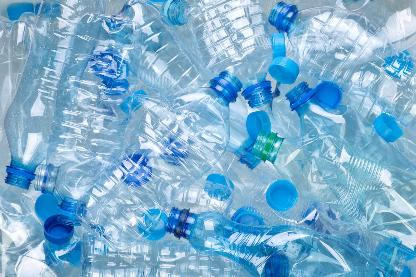Plastic Bottle: (0, 0, 110, 193), (286, 76, 416, 234), (266, 1, 416, 126), (167, 202, 415, 277), (252, 129, 416, 235), (184, 1, 276, 115), (78, 252, 266, 276)
